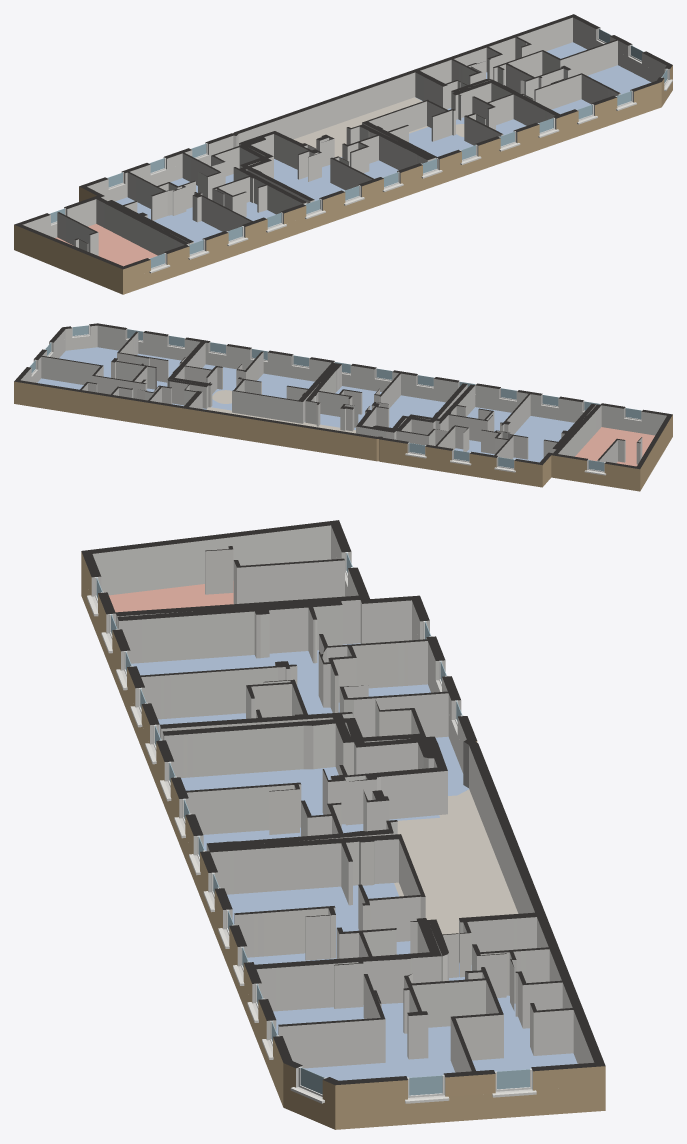
Rendered from cut-2.glb.
The picture shows the model from 3 angles, top to bottom: view 1: azimuth 30°, elevation 25°; view 2: azimuth 150°, elevation 25°; view 3: azimuth 270°, elevation 25°; orthographic projection. The views are drawn at different scales.
Visible parts, largest first — view 1: cut floor; view 2: cut floor; view 3: cut floor.
Part boxes in pixels (box(x1,y1,x2,y2)): cut floor: box(14, 14, 672, 294); cut floor: box(14, 323, 672, 491); cut floor: box(81, 520, 605, 1129).
Bounding box in the file's own units: 40.71 × 1.52 × 15.97.
